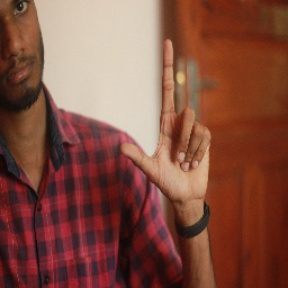L: (117, 37, 214, 199)
